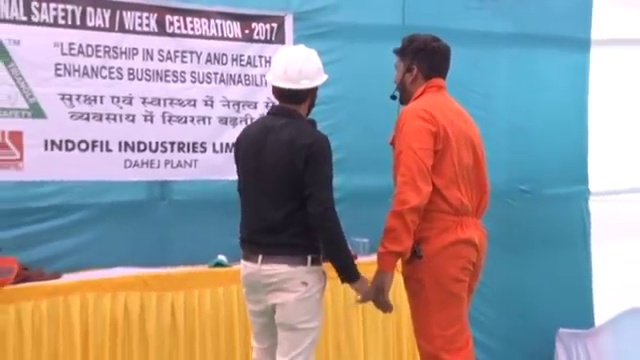helmet: (264, 43, 331, 88)
helmet_off: (387, 33, 452, 108)
helmet_on: (263, 42, 331, 123)
person: (234, 42, 369, 360), (367, 32, 490, 360)
